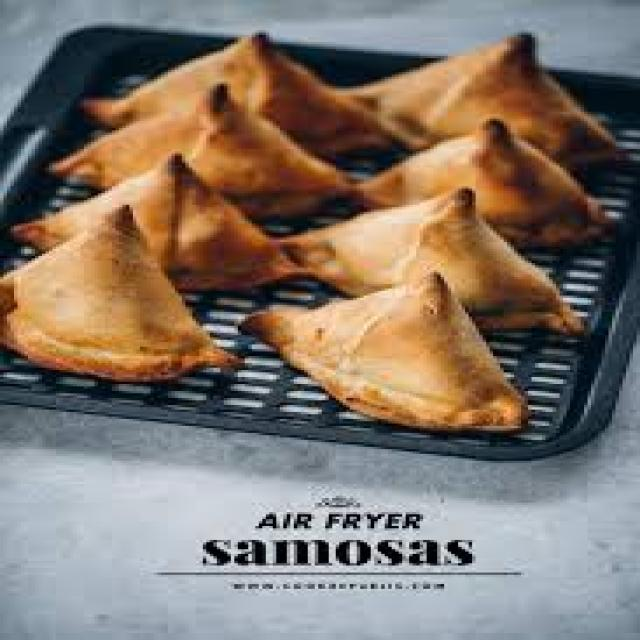SAMOSA: (262, 266, 536, 429), (340, 31, 628, 179), (292, 186, 580, 329), (6, 156, 306, 292), (97, 34, 401, 166), (11, 206, 241, 372), (355, 115, 628, 248), (66, 85, 361, 198)
